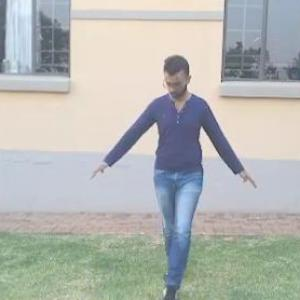land: (85, 37, 252, 290)
